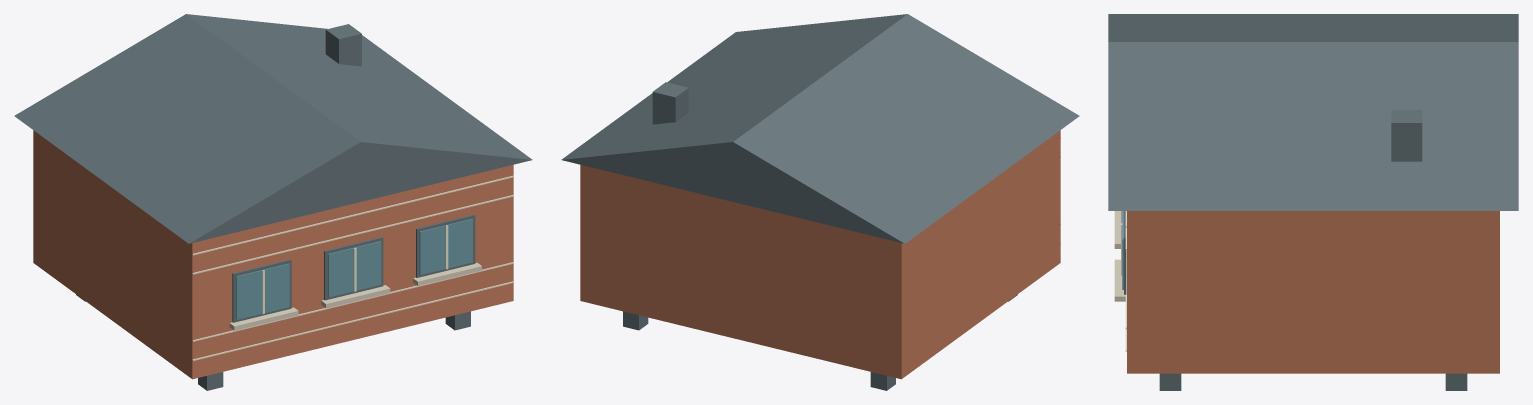
The model's file is utility-cabin.glb.
3 renders of one model, left to right at view 1: azimuth 30°, elevation 25°; view 2: azimuth 150°, elevation 25°; view 3: azimuth 270°, elevation 25°, orthographic. The views are drawn at different scales.
Bounding box in the file's own units: 7.5 × 4.85 × 6.6.
